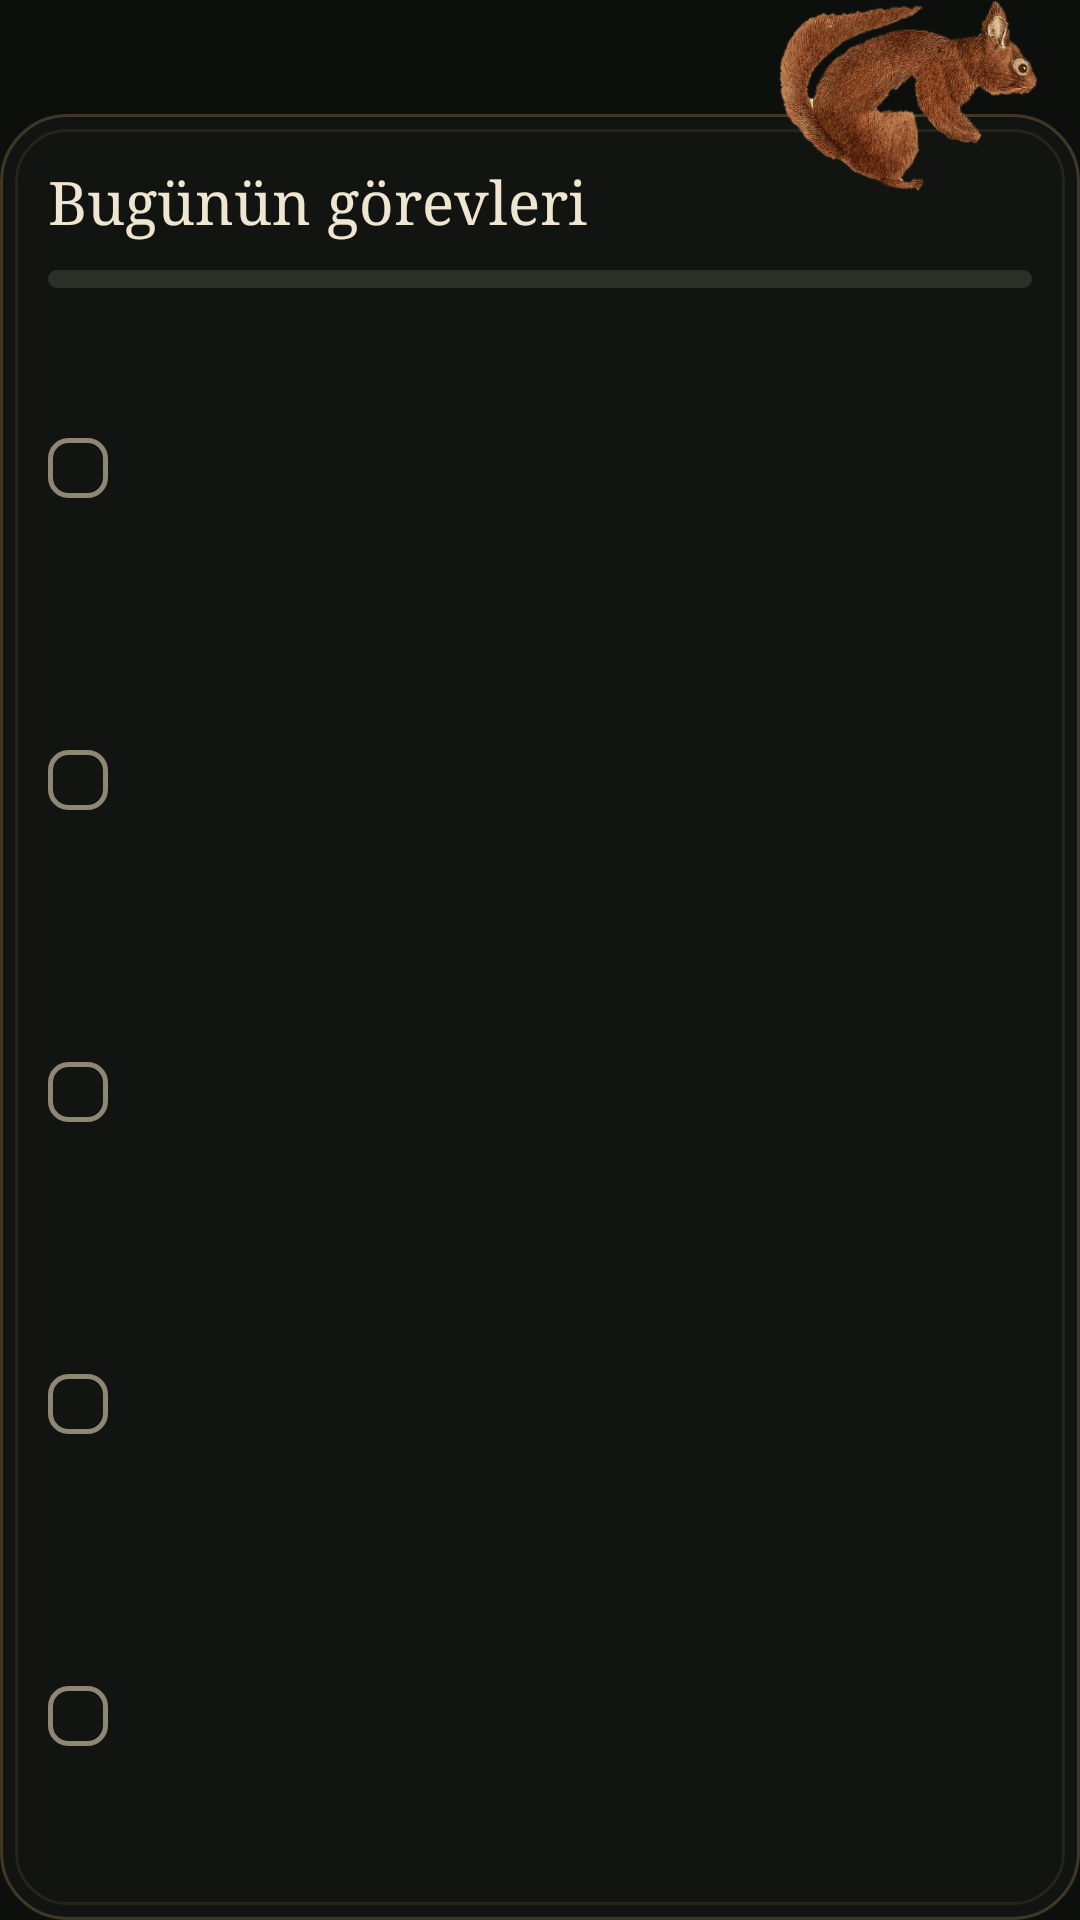

Icon bounding boxes for this 1080×1920 phone screenshot, format region(x1, y1, x2, y2):
check off: region(48, 438, 108, 498), region(48, 750, 108, 810), region(48, 1062, 108, 1122), region(48, 1374, 108, 1434), region(48, 1686, 108, 1746)
squirrel: region(779, 1, 1038, 191)
